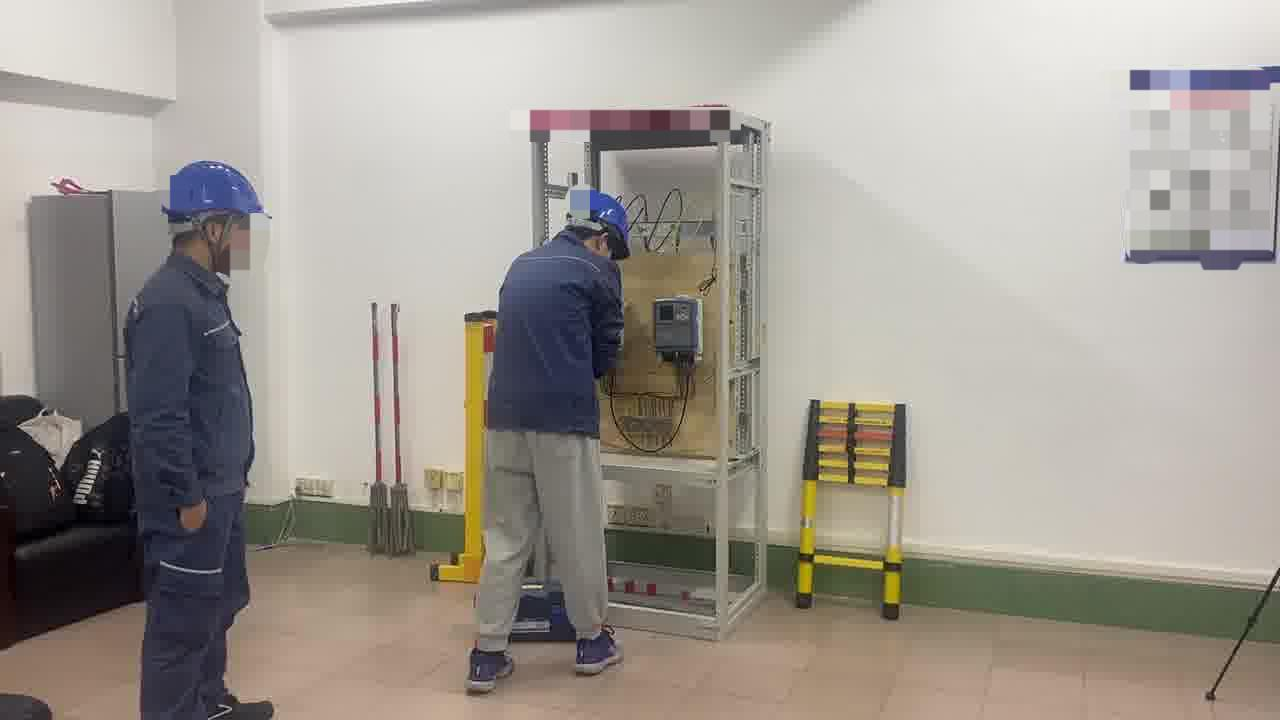halt: (164, 160, 273, 278), (562, 194, 636, 264)
inear: (193, 216, 238, 261)
noear: (588, 225, 618, 259)
